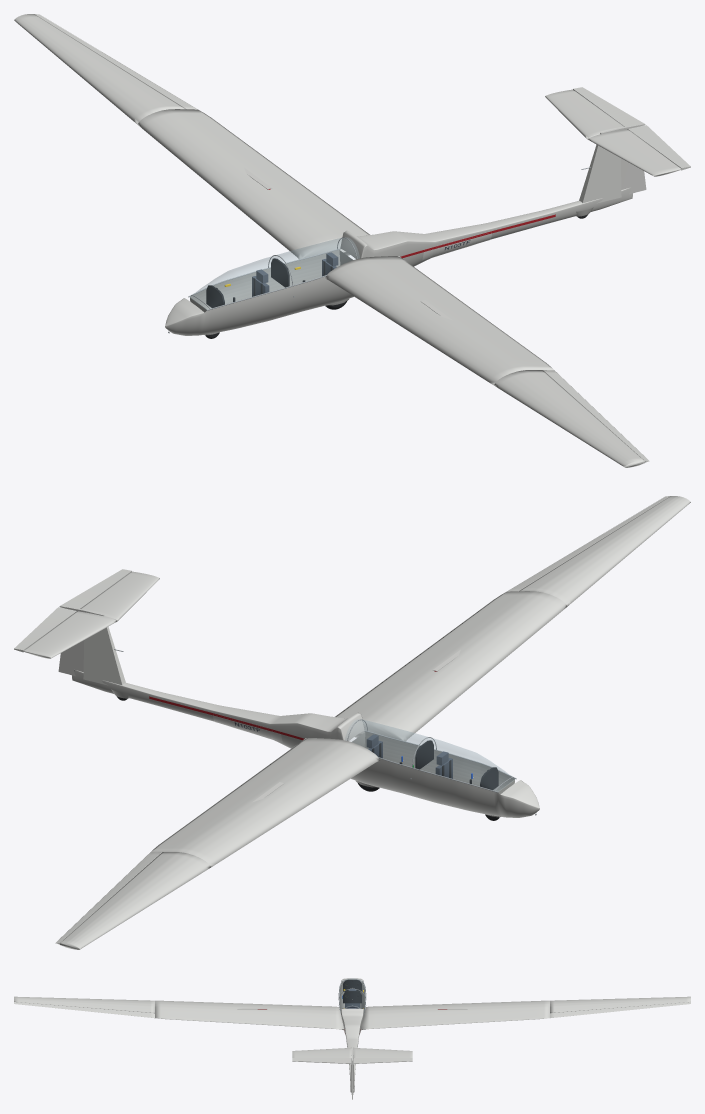
Rendered from glider-grob103-acro-like-own.glb.
3 renders of one model, top to bottom at view 1: azimuth 30°, elevation 25°; view 2: azimuth 150°, elevation 25°; view 3: azimuth 270°, elevation 25°, orthographic. The views are drawn at different scales.
Visible parts, largest first — view 1: Wing_Inner_R, Wing_Inner_L, Fuselage_Painted, Wing_Outer_R, Wing_Outer_L, Canopy_Glass_Front, Canopy_Glass_Rear, Cockpit_Liner, Stabilizer_L, Stabilizer_R, Fin, Aileron_R (+4 smaller); view 2: Wing_Inner_L, Wing_Inner_R, Fuselage_Painted, Wing_Outer_L, Wing_Outer_R, Canopy_Glass_Front, Canopy_Glass_Rear, Cockpit_Liner, Stabilizer_R, Stabilizer_L, Fin, Aileron_L (+4 smaller); view 3: Wing_Inner_L, Wing_Inner_R, Wing_Outer_L, Wing_Outer_R, Fuselage_Painted, Aileron_L, Aileron_R, Stabilizer_L, Stabilizer_R, Canopy_Glass_Rear, Elevator_L, Elevator_R (+3 smaller).
Part boxes in pixels (box(x1,y1,x2,y2)): Wing_Inner_R: box(137, 109, 369, 259); Wing_Inner_L: box(324, 256, 553, 384); Fuselage_Painted: box(165, 187, 632, 335); Wing_Outer_R: box(14, 14, 185, 124); Wing_Outer_L: box(494, 370, 644, 467); Canopy_Glass_Front: box(189, 256, 291, 309); Canopy_Glass_Rear: box(269, 237, 359, 284); Cockpit_Liner: box(190, 249, 340, 309); Stabilizer_L: box(588, 129, 681, 176); Stabilizer_R: box(545, 89, 624, 139); Fin: box(579, 128, 621, 203); Aileron_R: box(34, 14, 197, 109); Wing_Inner_L: box(335, 591, 567, 741); Wing_Inner_R: box(151, 738, 380, 866); Fuselage_Painted: box(72, 669, 539, 817); Wing_Outer_L: box(519, 496, 690, 606); Wing_Outer_R: box(60, 852, 210, 949); Canopy_Glass_Front: box(413, 738, 515, 791); Canopy_Glass_Rear: box(345, 719, 435, 766); Cockpit_Liner: box(364, 731, 514, 791); Stabilizer_R: box(23, 611, 116, 658); Stabilizer_L: box(80, 571, 159, 621); Fin: box(83, 610, 125, 685); Aileron_L: box(507, 496, 670, 591); Wing_Inner_L: box(155, 1000, 343, 1029); Wing_Inner_R: box(361, 1000, 549, 1029); Wing_Outer_L: box(14, 996, 154, 1012); Wing_Outer_R: box(550, 996, 690, 1012); Fuselage_Painted: box(341, 978, 363, 1094); Aileron_L: box(14, 1002, 154, 1018); Aileron_R: box(550, 1002, 690, 1018); Stabilizer_L: box(292, 1047, 351, 1058); Stabilizer_R: box(353, 1047, 412, 1058); Canopy_Glass_Rear: box(339, 989, 365, 1011); Elevator_L: box(292, 1058, 351, 1063); Elevator_R: box(353, 1058, 412, 1063).
Size of the model in its own units: 8.18 by 1.81 by 18.
17 materials, 5 textured.
